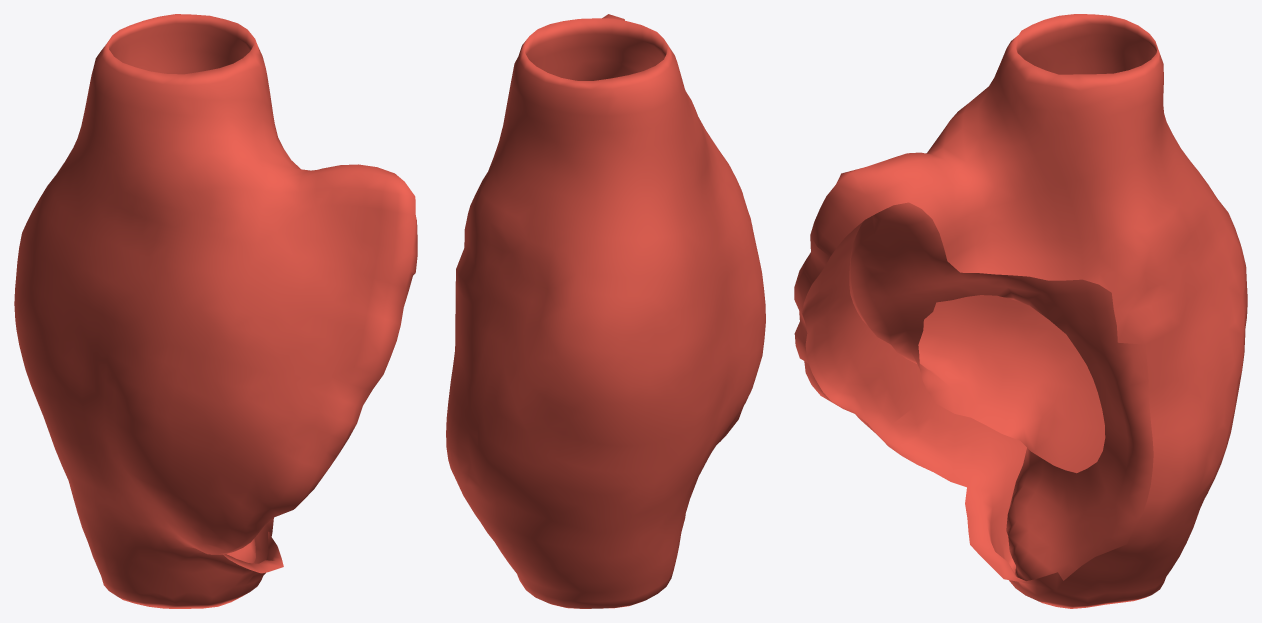
File: rightatrium.glb
3 renders of one model, left to right at view 1: azimuth 30°, elevation 25°; view 2: azimuth 150°, elevation 25°; view 3: azimuth 270°, elevation 25°, orthographic.
Parts seen in each view (by area): view 1: Rightatrium.002; view 2: Rightatrium.002; view 3: Rightatrium.002.
Boxes of the visible parts, bbox=[...] form: Rightatrium.002: bbox=[14, 14, 417, 608]; Rightatrium.002: bbox=[446, 14, 765, 608]; Rightatrium.002: bbox=[794, 14, 1247, 608].
Bounding box in the file's own units: 1.47 × 3.06 × 2.34.
